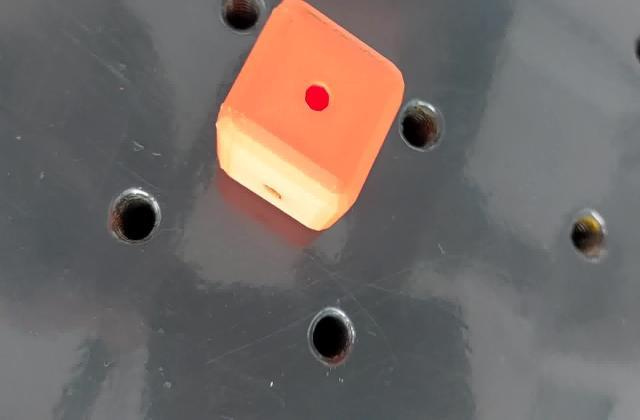cube: (210, 5, 407, 239)
